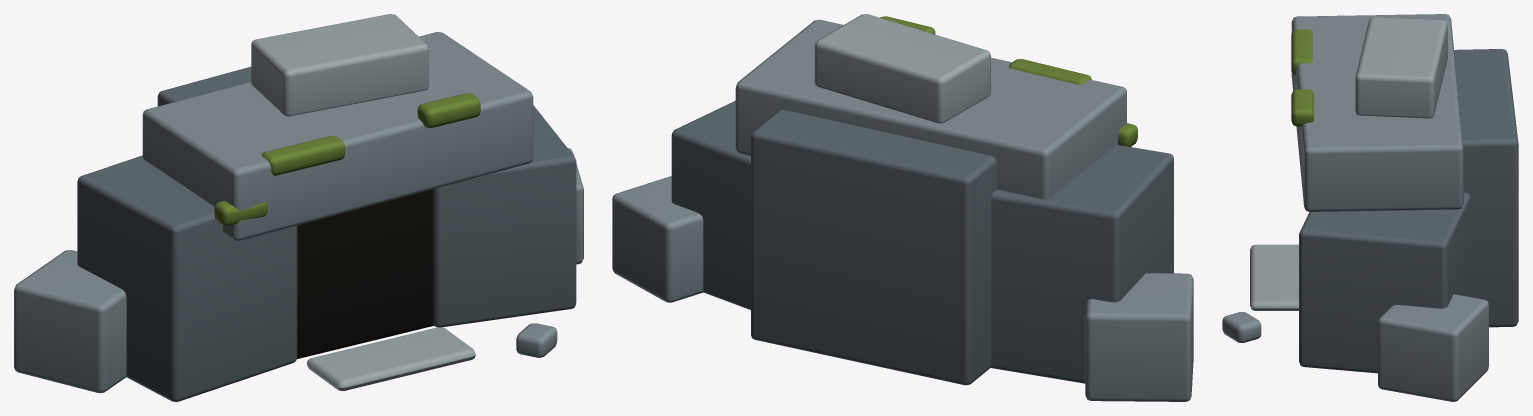
File: hob_hole.glb
3 views of the same model, side by side, from view 1: azimuth 30°, elevation 25°; view 2: azimuth 150°, elevation 25°; view 3: azimuth 270°, elevation 25° (orthographic). The views are drawn at different scales.
Visible parts, largest first — view 1: hob_hole; view 2: hob_hole; view 3: hob_hole.
Part boxes in pixels (x1,y1,x2,y2): hob_hole: (14,14,583,401); hob_hole: (612,14,1193,401); hob_hole: (1222,14,1518,401).
Size of the model in its own units: 3.69 by 1.68 by 1.85.
